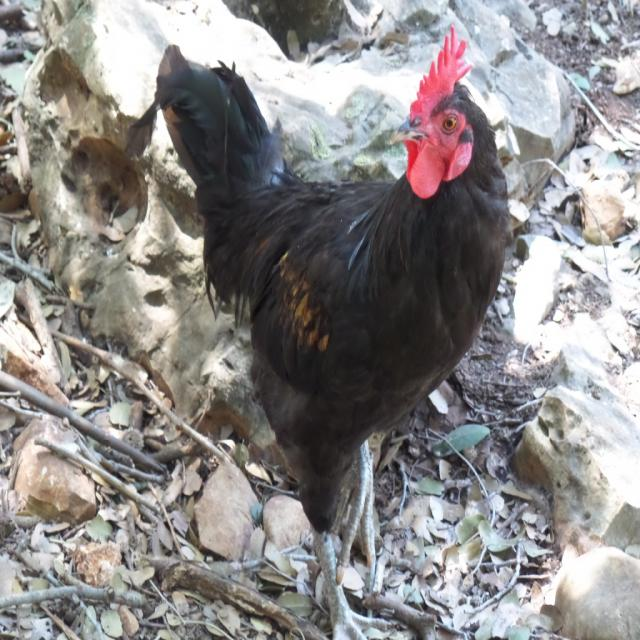Chicken: (143, 30, 517, 606)
